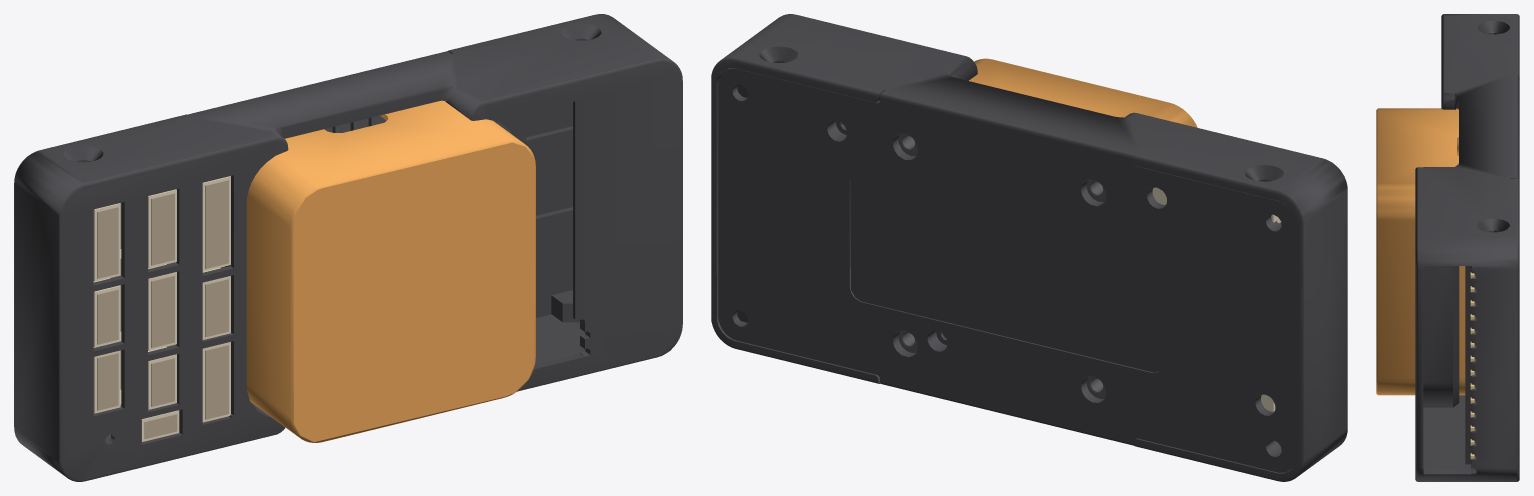
Rendered from pixhawk.glb.
The picture shows the model from 3 angles, left to right: view 1: azimuth 30°, elevation 25°; view 2: azimuth 150°, elevation 25°; view 3: azimuth 270°, elevation 25°; orthographic projection. The views are drawn at different scales.
Visible parts, largest first — view 1: c_111114, c_ed6b19, c_8c7251, c_e0c699; view 2: c_111114, c_ed6b19, c_19191c; view 3: c_111114, c_ed6b19, black_plastic, gold.
Part boxes in pixels (x1=…): c_111114: x1=14, y1=14, x2=682, y2=481; c_ed6b19: x1=221, y1=100, x2=535, y2=442; c_8c7251: x1=97, y1=180, x2=228, y2=439; c_e0c699: x1=93, y1=176, x2=230, y2=441; c_111114: x1=711, y1=14, x2=1347, y2=481; c_ed6b19: x1=969, y1=58, x2=1197, y2=127; c_19191c: x1=898, y1=133, x2=1106, y2=398; c_111114: x1=1415, y1=14, x2=1519, y2=481; c_ed6b19: x1=1376, y1=108, x2=1465, y2=395; black_plastic: x1=1465, y1=266, x2=1476, y2=464; gold: x1=1470, y1=272, x2=1474, y2=458.
Bounding box in the file's own units: 0.0945 × 0.0443 × 0.0237.
